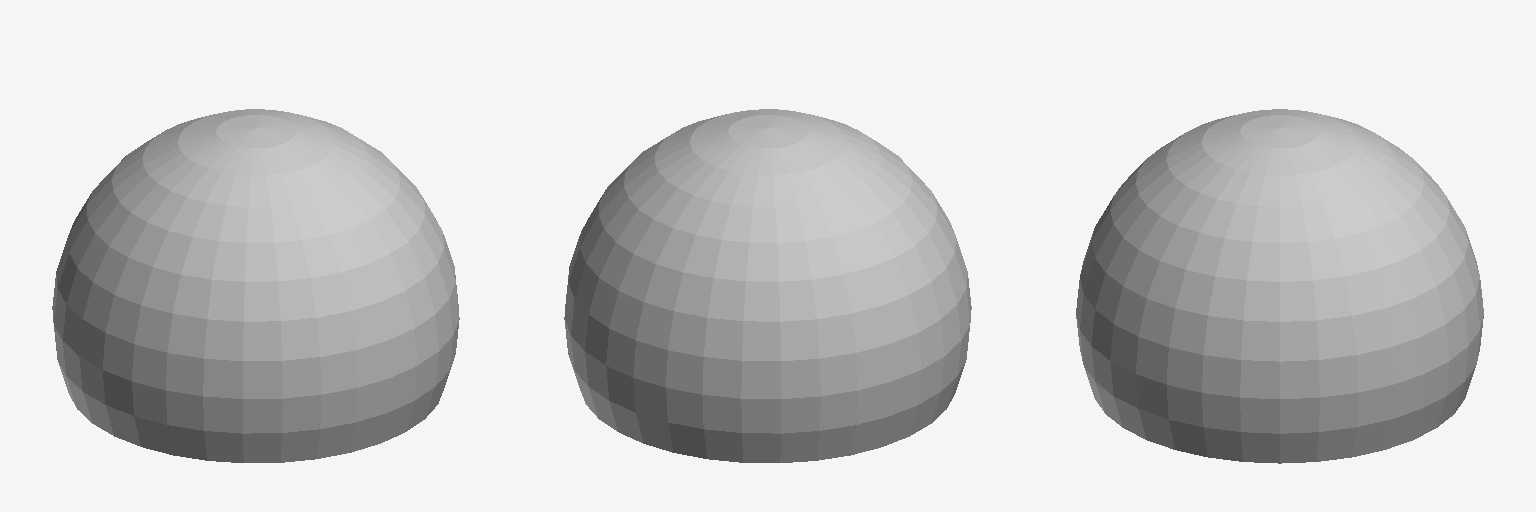
The model's file is hat_sphere.obj.
3 renders of one model, left to right at view 1: azimuth 30°, elevation 25°; view 2: azimuth 150°, elevation 25°; view 3: azimuth 270°, elevation 25°, orthographic.
Visible parts, largest first — view 1: Sphere; view 2: Sphere; view 3: Sphere.
Part boxes in pixels (x1,y1,x2,y2): Sphere: (52, 109, 459, 462); Sphere: (564, 109, 971, 462); Sphere: (1076, 109, 1483, 463).
Size of the model in its own units: 2 by 1.38 by 2.